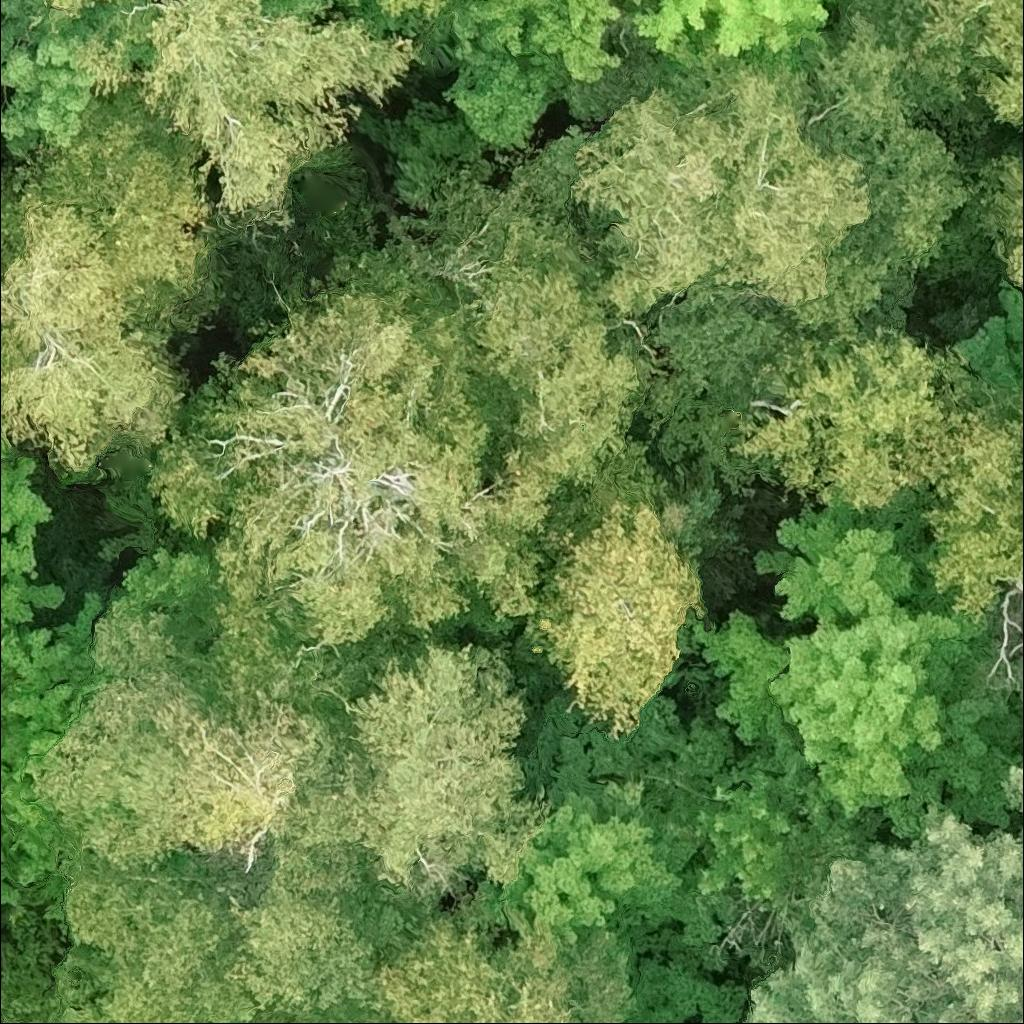crown: (143, 245, 553, 665), (505, 0, 993, 336), (678, 488, 1023, 844), (372, 165, 657, 491), (29, 610, 358, 891), (0, 86, 230, 475), (746, 768, 1023, 1023), (299, 643, 550, 918), (138, 0, 425, 232), (472, 693, 736, 940), (722, 327, 986, 512), (520, 494, 706, 739), (40, 851, 258, 1023), (216, 835, 409, 1023), (354, 900, 641, 1023), (439, 0, 624, 148), (917, 374, 1023, 619), (0, 591, 110, 766), (0, 0, 119, 160), (914, 0, 1023, 132), (625, 0, 836, 62), (0, 456, 72, 636), (970, 144, 1023, 289), (358, 0, 463, 34), (265, 0, 367, 15), (44, 0, 123, 15), (616, 0, 657, 26), (0, 17, 15, 63), (0, 437, 18, 461), (0, 1011, 25, 1023), (0, 86, 1, 116)
